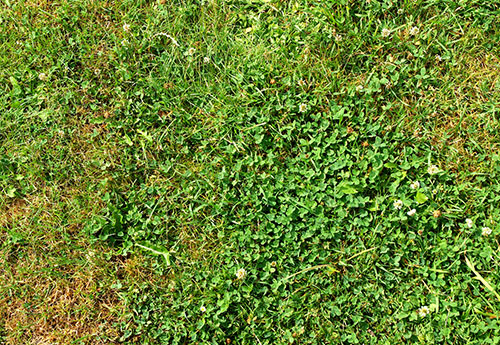clover: (104, 34, 445, 342)
